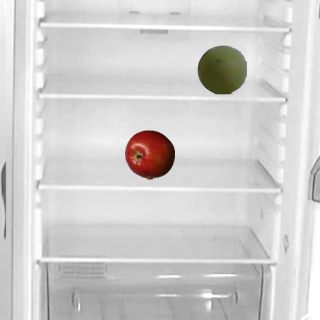Apple Braeburn: (124, 129, 174, 179)
Grape White 4: (196, 44, 246, 94)
